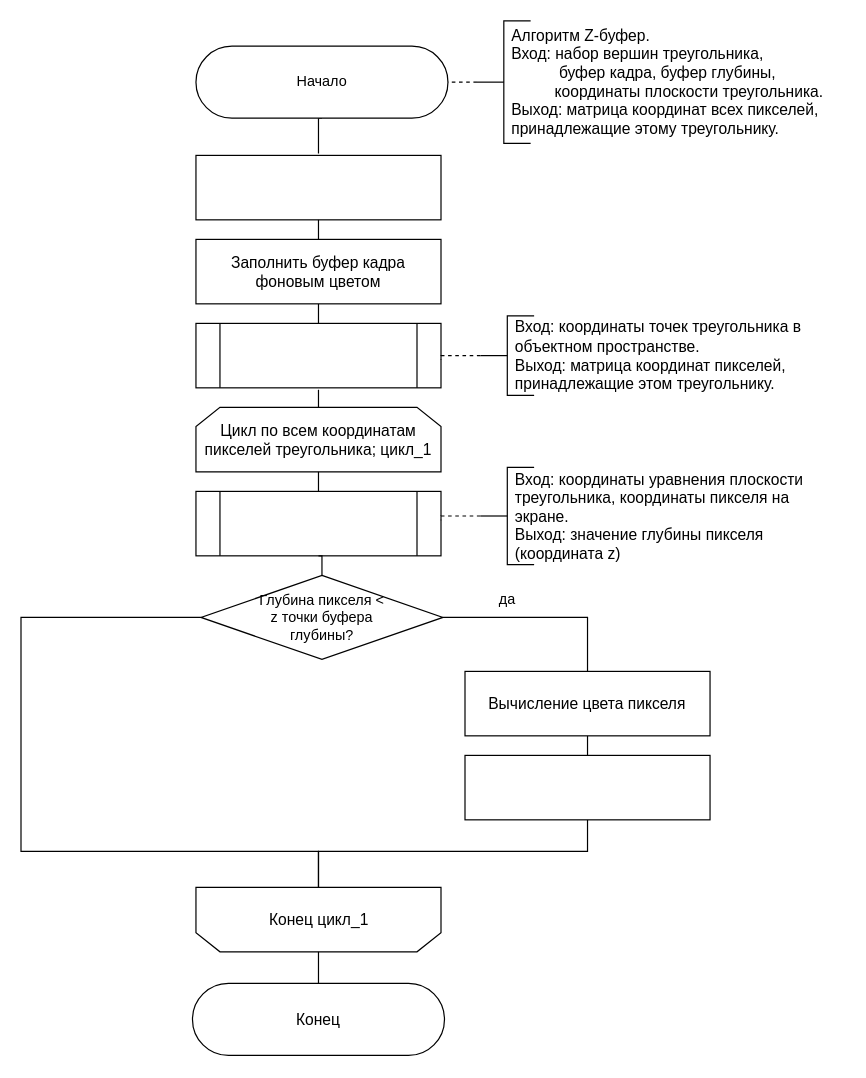
The diagram is 866 pixels wide and 1078 high, and some of its shapes have lost their labels. The shapes that lost their labels are listed below. From the top down, each one's centre as x and y in pixels, then its label:
At (318,187): "Заполнить буфер глубины максимальным значением z".
At (318,355): "Растеризация треугольника".
At (318,523): "Вычисление координаты z пикселя".
At (587,787): "Заненсение в буфер глубины значения z пикселя".
